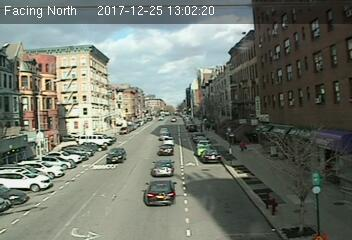car: (144, 180, 178, 207), (103, 147, 127, 164), (152, 159, 174, 175), (199, 149, 222, 162), (157, 144, 175, 154)
